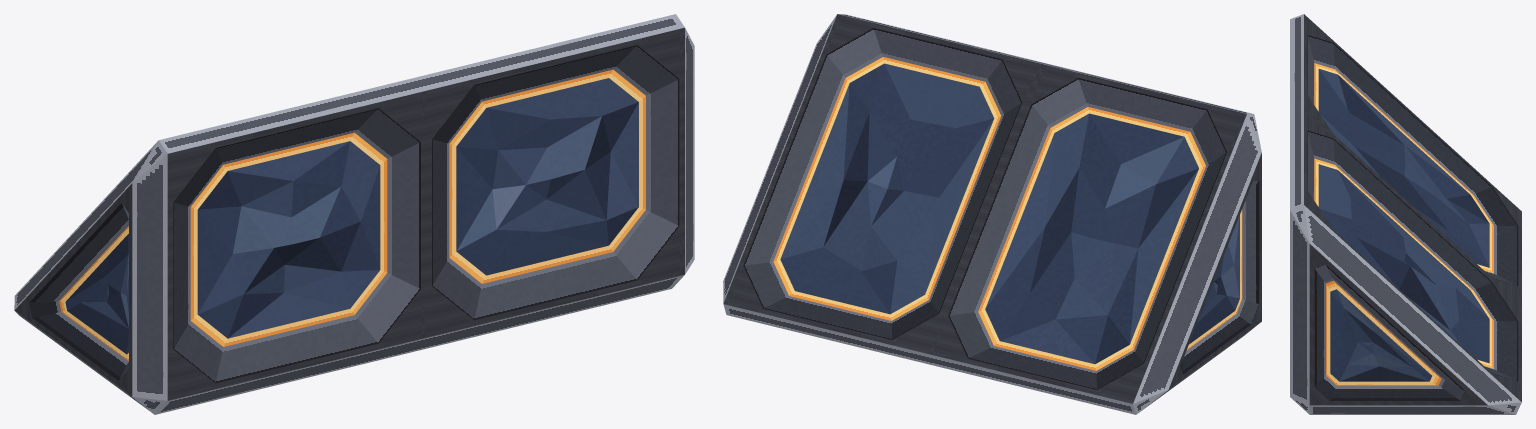
The model's file is marlit_long_half.glb.
3 renders of one model, left to right at view 1: azimuth 30°, elevation 25°; view 2: azimuth 150°, elevation 25°; view 3: azimuth 270°, elevation 25°, orthographic. The views are drawn at different scales.
Parts seen in each view (by area): view 1: marlit_long_half_body; view 2: marlit_long_half_body; view 3: marlit_long_half_body.
Part boxes in pixels (x1,y1,x2,y2): marlit_long_half_body: (14, 14, 694, 414); marlit_long_half_body: (723, 14, 1261, 414); marlit_long_half_body: (1290, 14, 1521, 414).
Size of the model in its own units: 4 by 1.89 by 1.89.
1 material, 1 textured.
